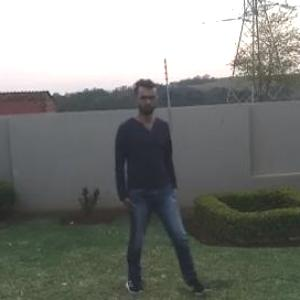follow: (102, 78, 173, 299)
